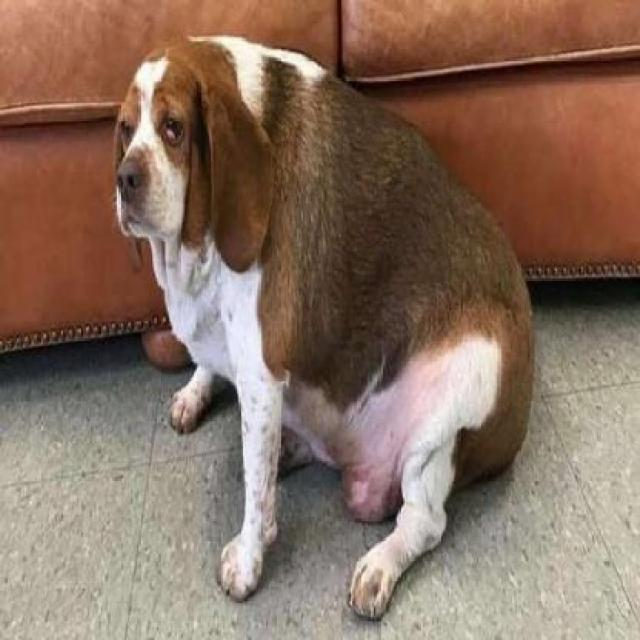Dog: (114, 31, 541, 620)
